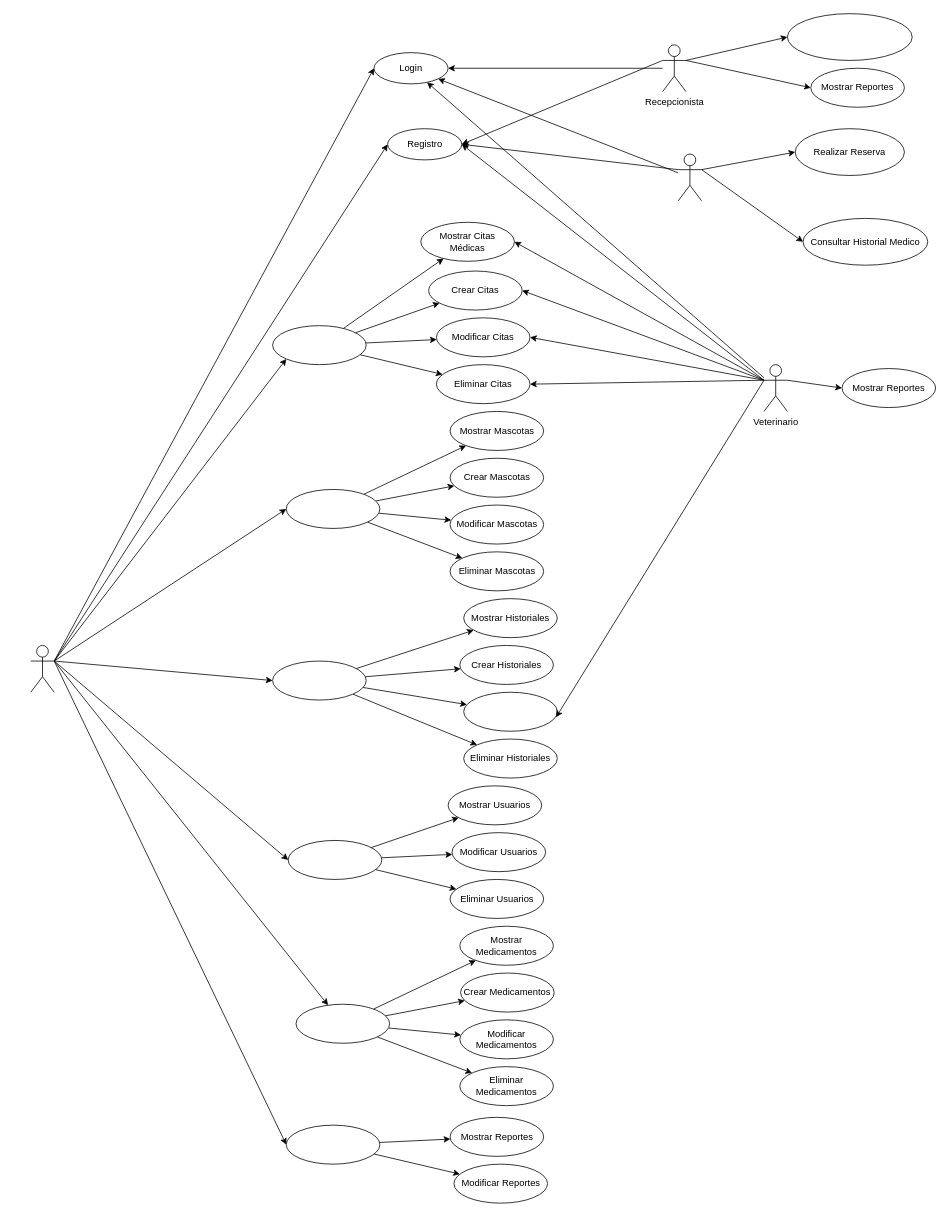
Some shapes in this 949 by 1217 pixel diagram are drawn without their labels. The box of each missing label's shape, as (x1, y1, x2, y2) in pixels:
Administrador: (30, 645, 54, 692)
Cliente (Usuario): (677, 153, 702, 201)
Gestionar Citas Médicas: (272, 325, 366, 365)
Gestionar Historiales: (272, 660, 366, 700)
Gestionar Mascotas: (285, 489, 380, 528)
Gestionar Medicamentos: (295, 1003, 390, 1043)
Gestionar Registro de Mascota: (787, 13, 912, 60)
Gestionar Reportes: (285, 1124, 380, 1164)
Gestionar Usuarios: (287, 840, 382, 879)
Modificar Historiales: (463, 691, 557, 731)
